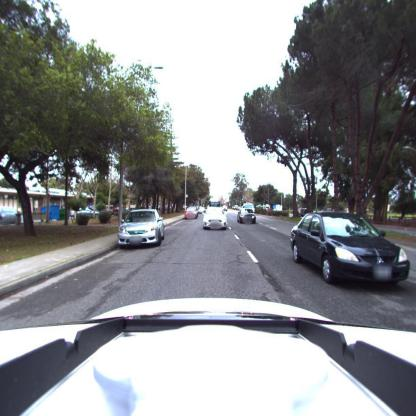car: (290, 212, 412, 285), (117, 210, 167, 248), (203, 210, 227, 230), (237, 204, 256, 224), (1, 207, 20, 226), (239, 203, 256, 215), (185, 206, 199, 219), (197, 206, 205, 214)
